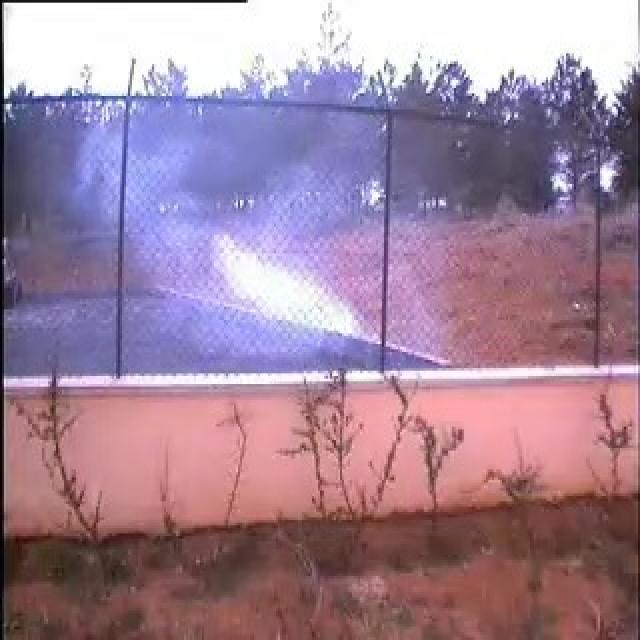smoke: (124, 121, 386, 381)
